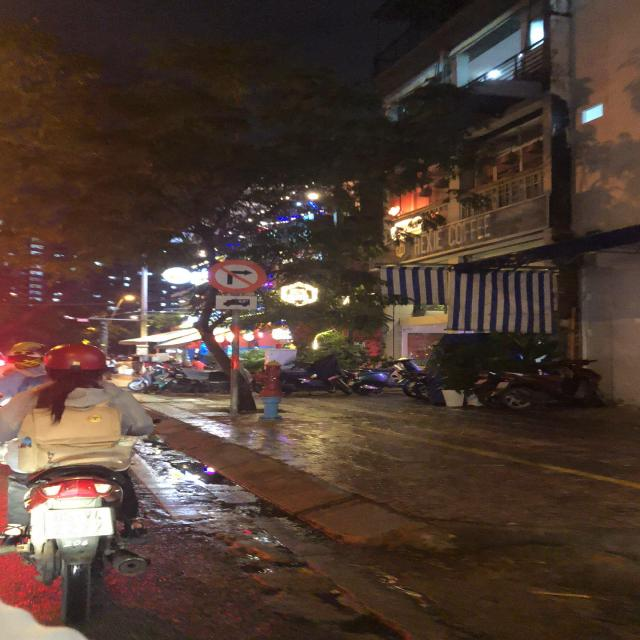Bien bao cam re phai: (205, 256, 265, 294)
